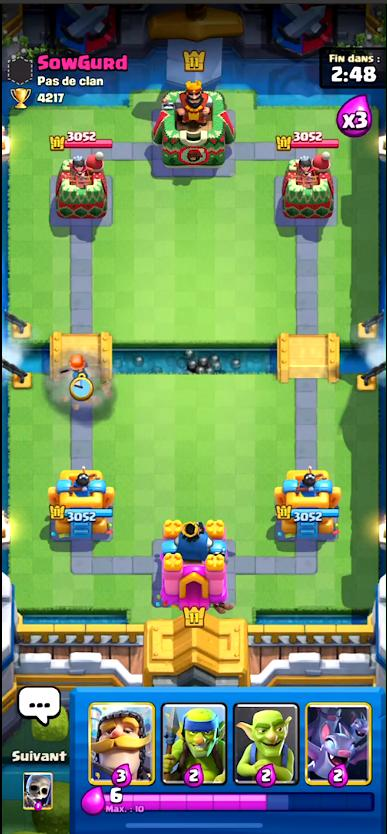valkyrie: (63, 354, 94, 381)
